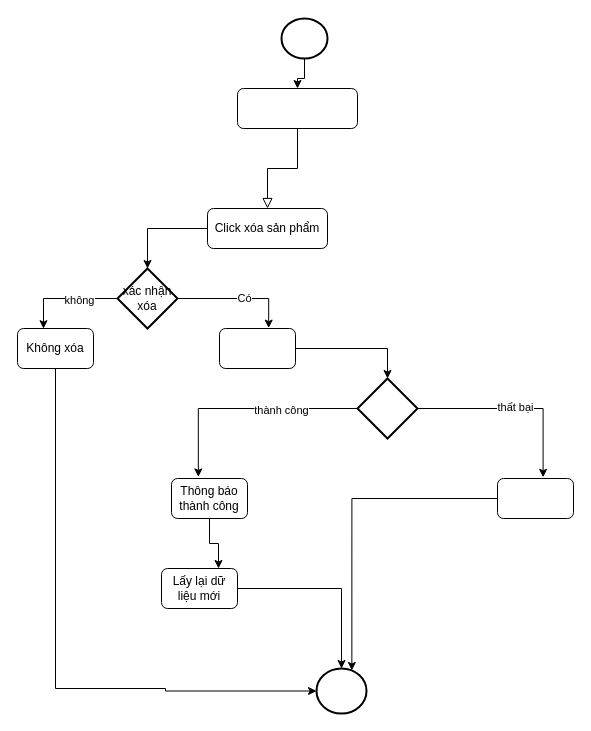
Image size: 591x731. Some labels were removed from this diagram. The centre of each missing label's shape, as x and y in pixels:
"Danh sách sản phẩm" belongs at [297,108].
"Thông báo lỗi" belongs at [535,498].
"Xóa" belongs at [257,348].
